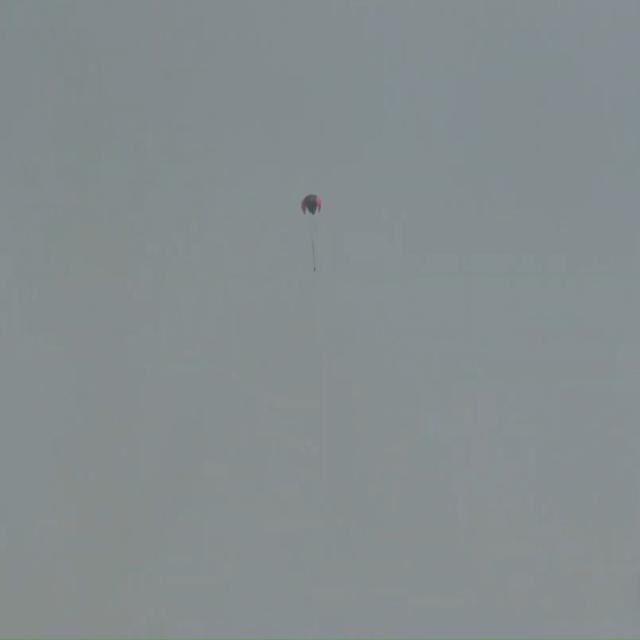Rocket: (312, 240, 316, 272)
